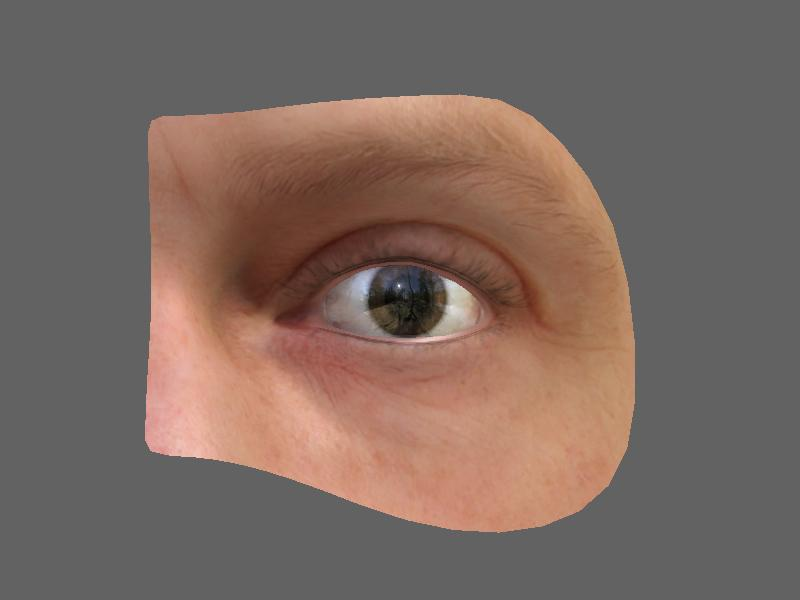iris: (366, 261, 454, 335)
